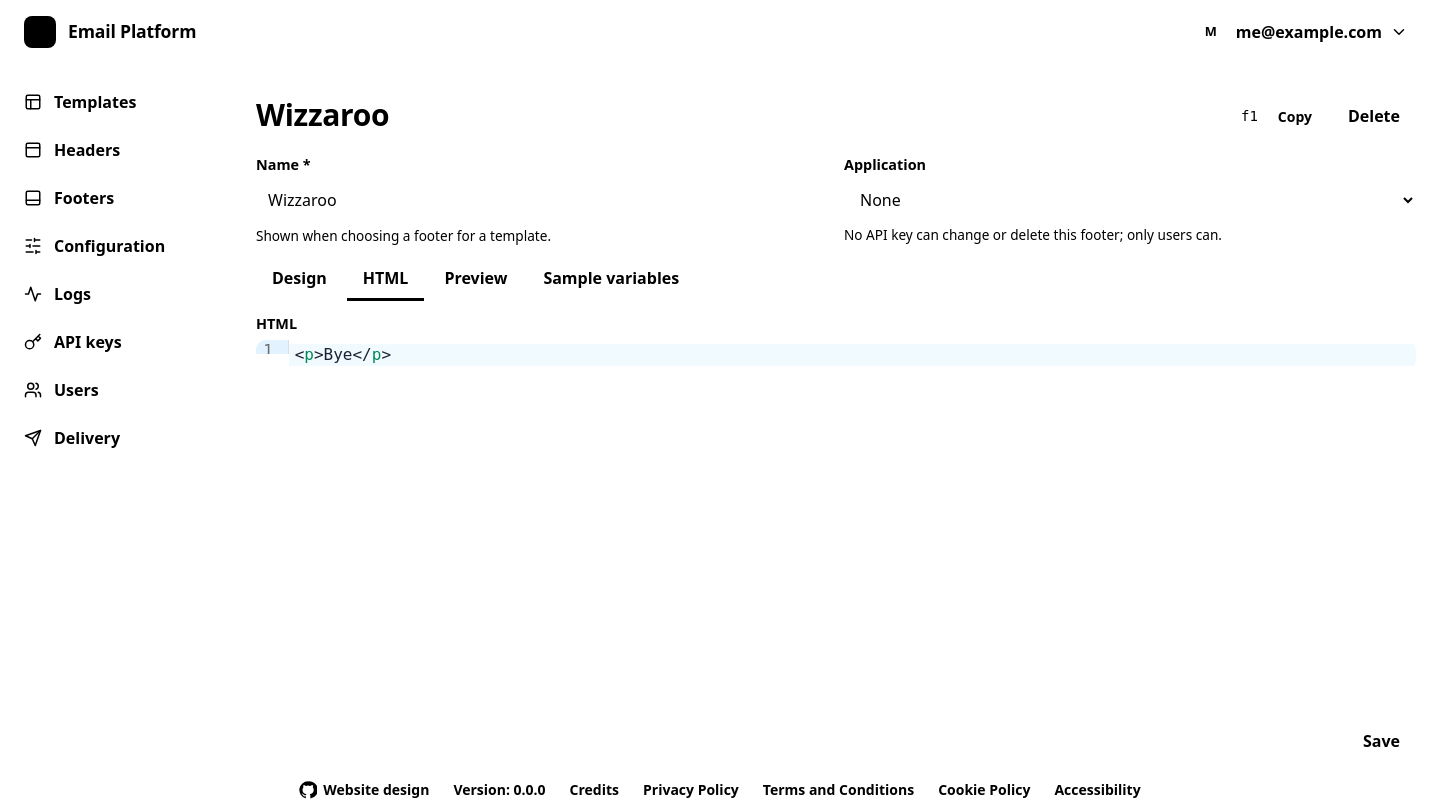
it: delete dialogs › list the templates a footer or configuration is used by
Later steps or results of the test are not shown.
Click the button "Delete": (1374, 116) [1332, 96, 1416, 137]
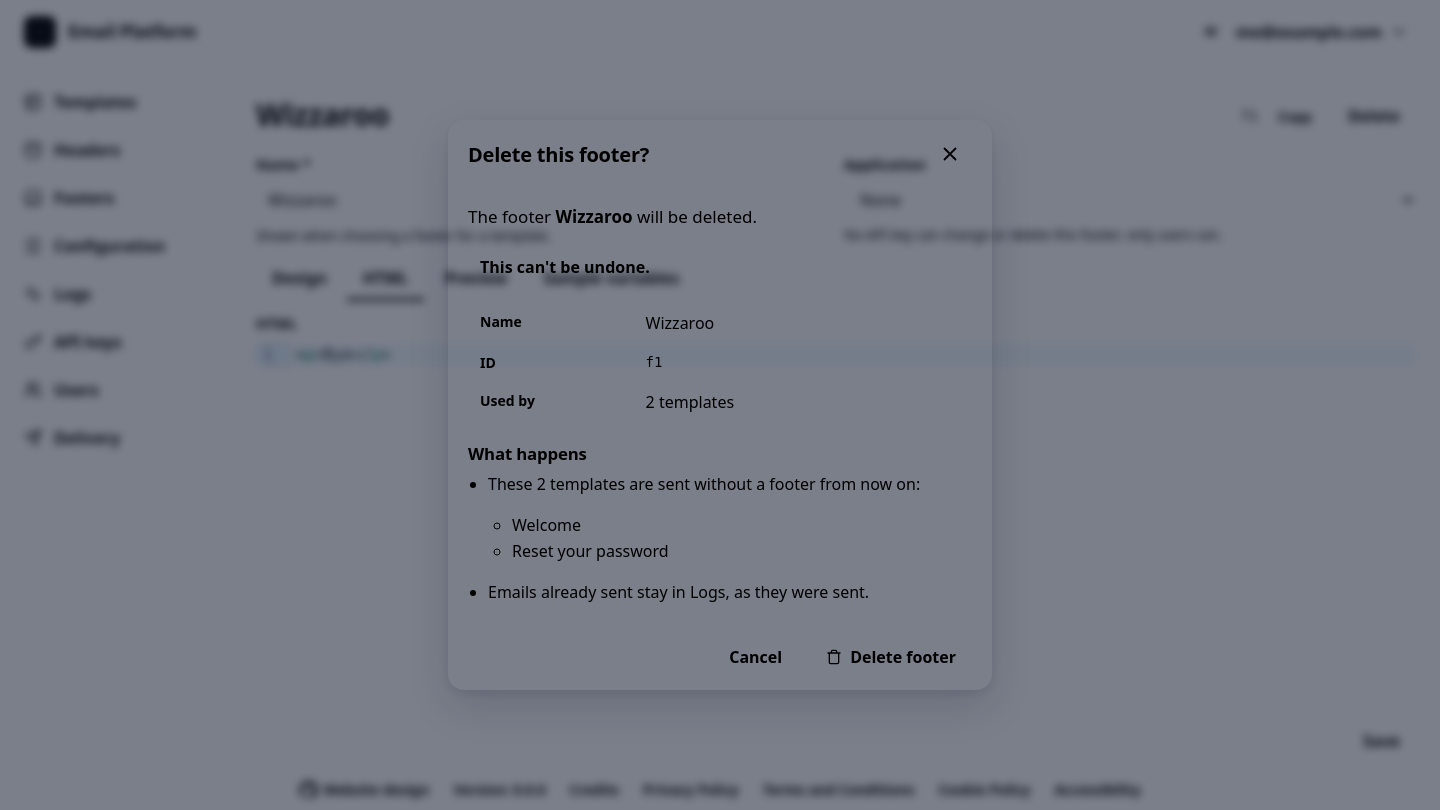
Expected: the dialog shows "Delete this footer?", [468, 141, 649, 168]
Expected: the dialog shows "2 templates", [646, 391, 734, 413]
